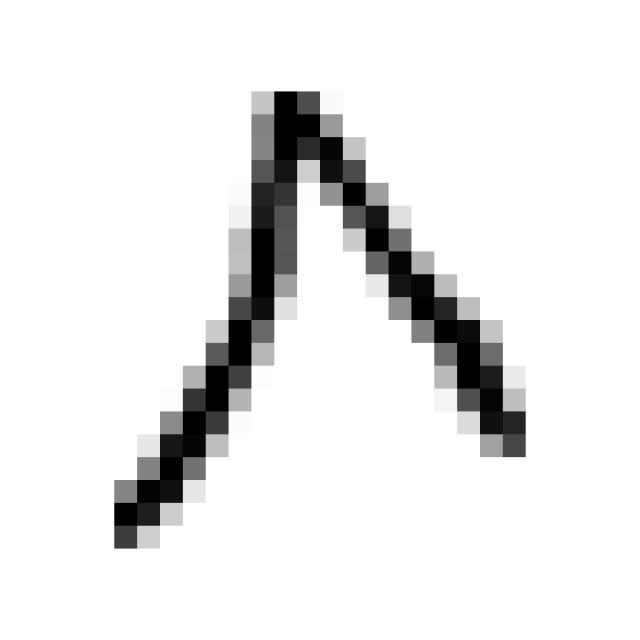8 -eight-: (94, 61, 547, 563)
